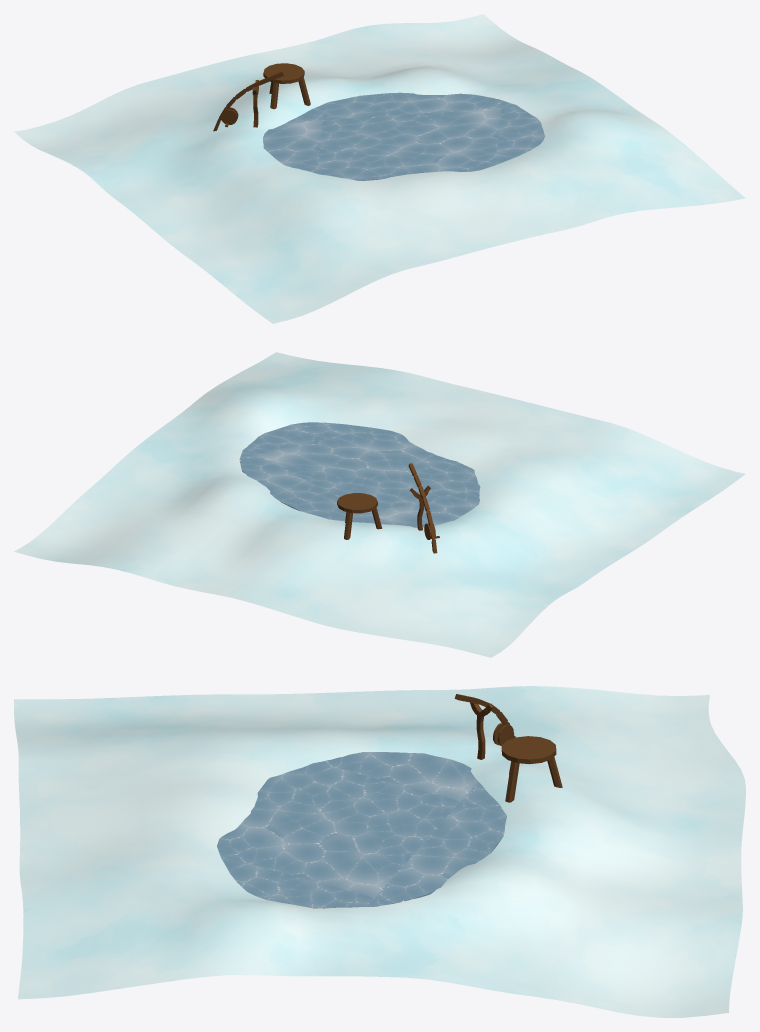
File: Pond.fbx
The picture shows the model from 3 angles, top to bottom: view 1: azimuth 30°, elevation 25°; view 2: azimuth 150°, elevation 25°; view 3: azimuth 270°, elevation 25°; orthographic projection. The views are drawn at different scales.
Parts seen in each view (by area): view 1: Cube.010; view 2: Cube.010; view 3: Cube.010.
Part boxes in pixels (x1,y1,x2,y2): Cube.010: [14, 14, 745, 323]; Cube.010: [14, 352, 745, 657]; Cube.010: [14, 686, 745, 1017].
Bounding box in the file's own units: 8.69 × 8.55 × 1.62.
